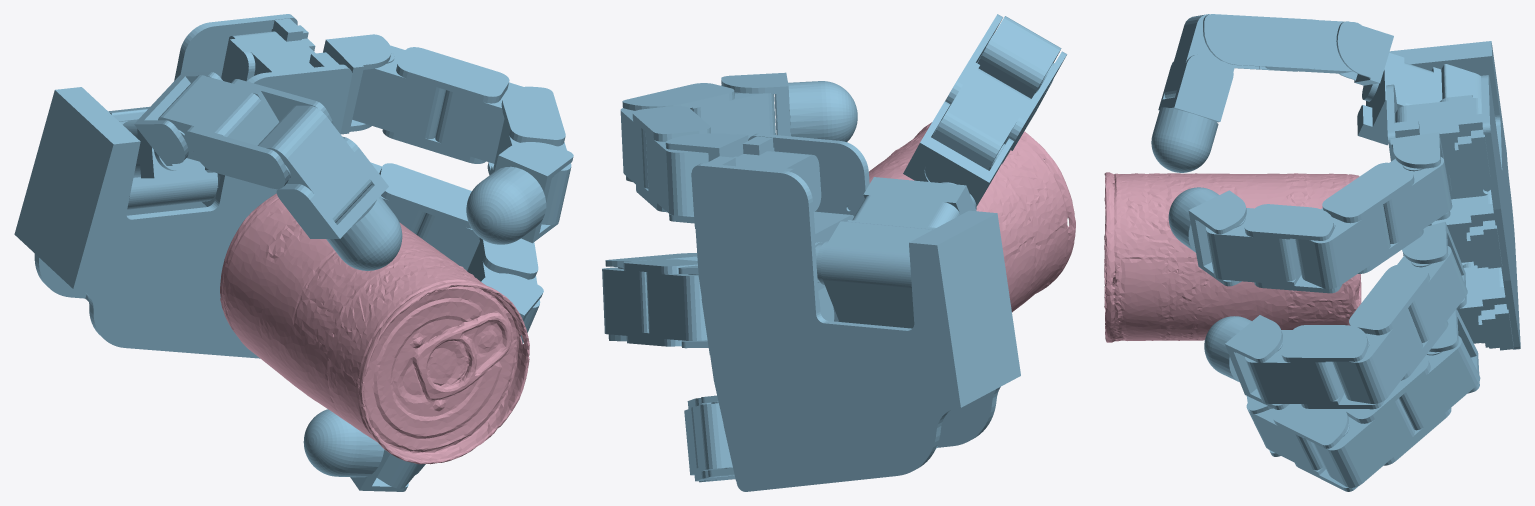
The picture shows the model from 3 angles, left to right: view 1: azimuth 30°, elevation 25°; view 2: azimuth 150°, elevation 25°; view 3: azimuth 270°, elevation 25°; orthographic projection. The views are drawn at different scales.
Parts seen in each view (by area): view 1: world; view 2: world; view 3: world.
Part boxes in pixels (left/top/right/bottom): world: left=14, top=14, right=573, bottom=491; world: left=602, top=14, right=1075, bottom=491; world: left=1104, top=14, right=1520, bottom=491.
Bounding box in the file's own units: 0.173 × 0.1703 × 0.1649.
